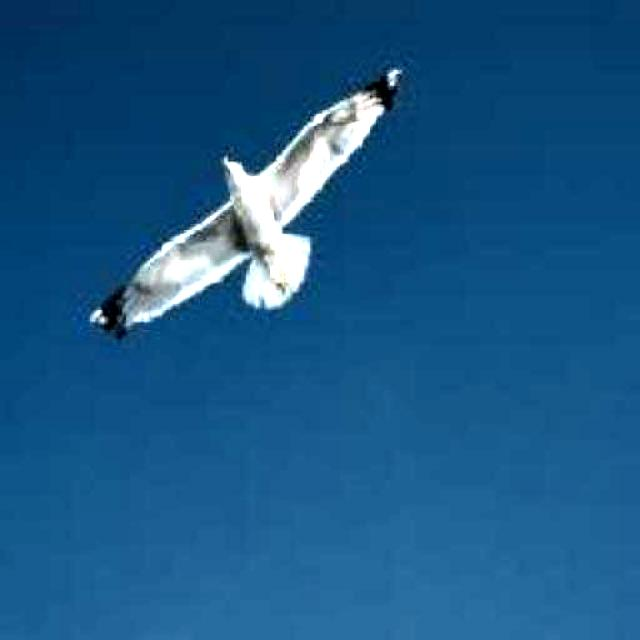airplane: (89, 69, 401, 349)
